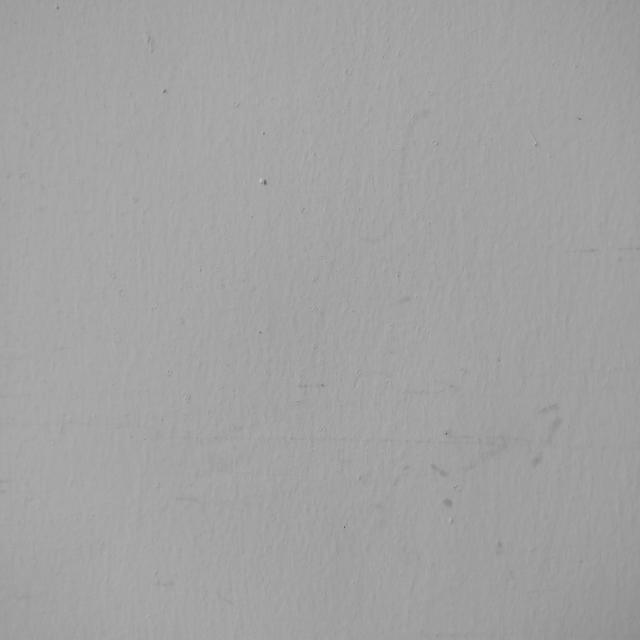rough and patchy surface: (5, 4, 634, 635)
